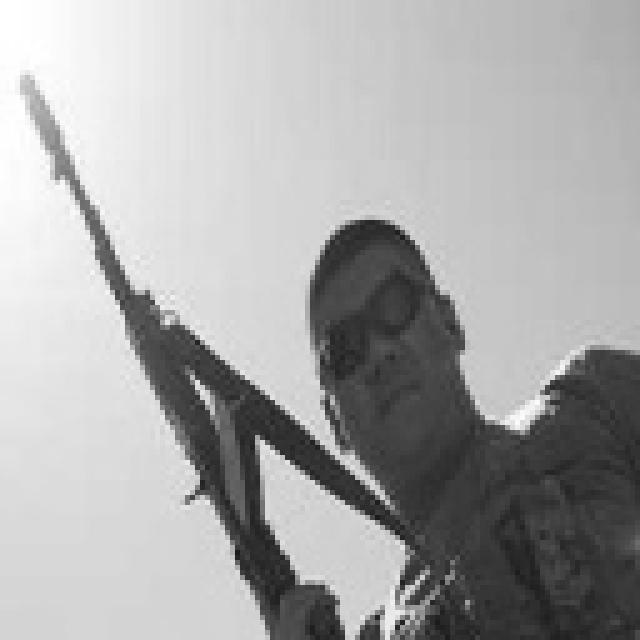Rifle: (0, 45, 430, 640)
